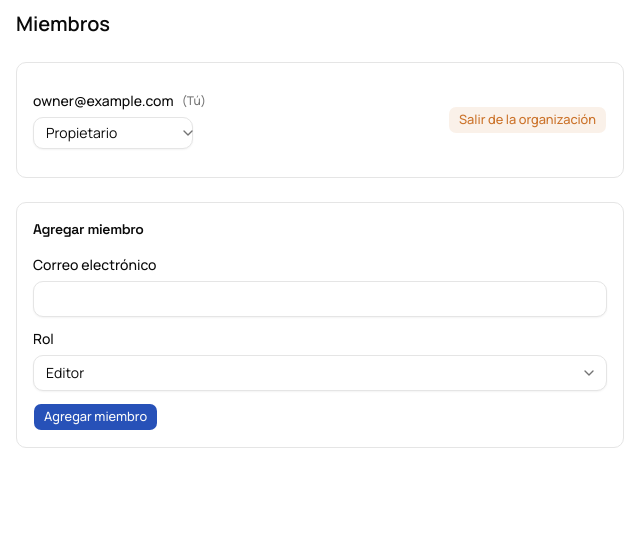
MembersPage › a successful add updates the list without a manual refetch
The width and height of the screenshot is (641, 556).
expect the list named "Miembros" is shown: met, box left=33, top=79, right=607, bottom=161
Type "viewer@example.com" into the field labelled "Correo electrónico".
click(320, 299); type("viewer@example.com")  # box left=33, top=281, right=607, bottom=317
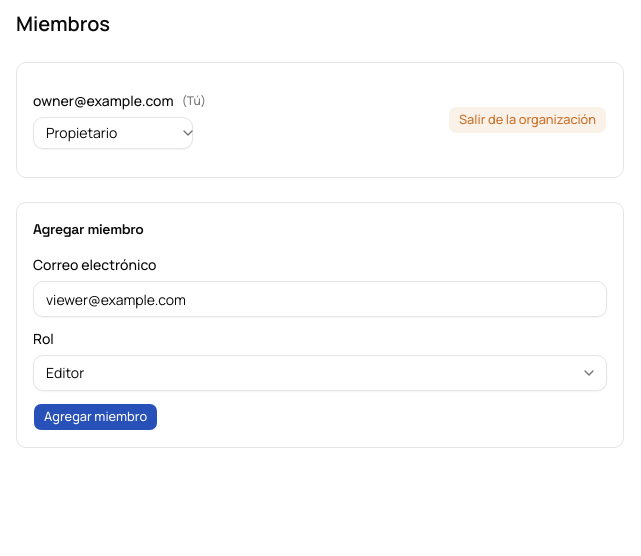
Click the button "Agregar miembro".
click(96, 417)  # box left=33, top=403, right=158, bottom=431
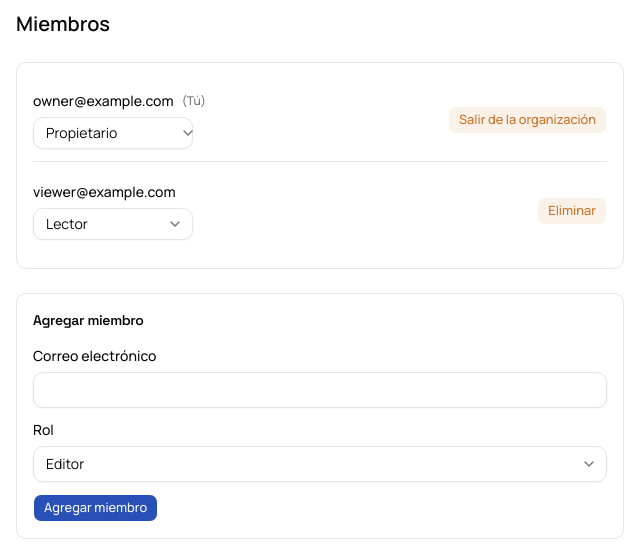
expect the text "viewer@example.com" is shown: met, box left=33, top=182, right=176, bottom=202
